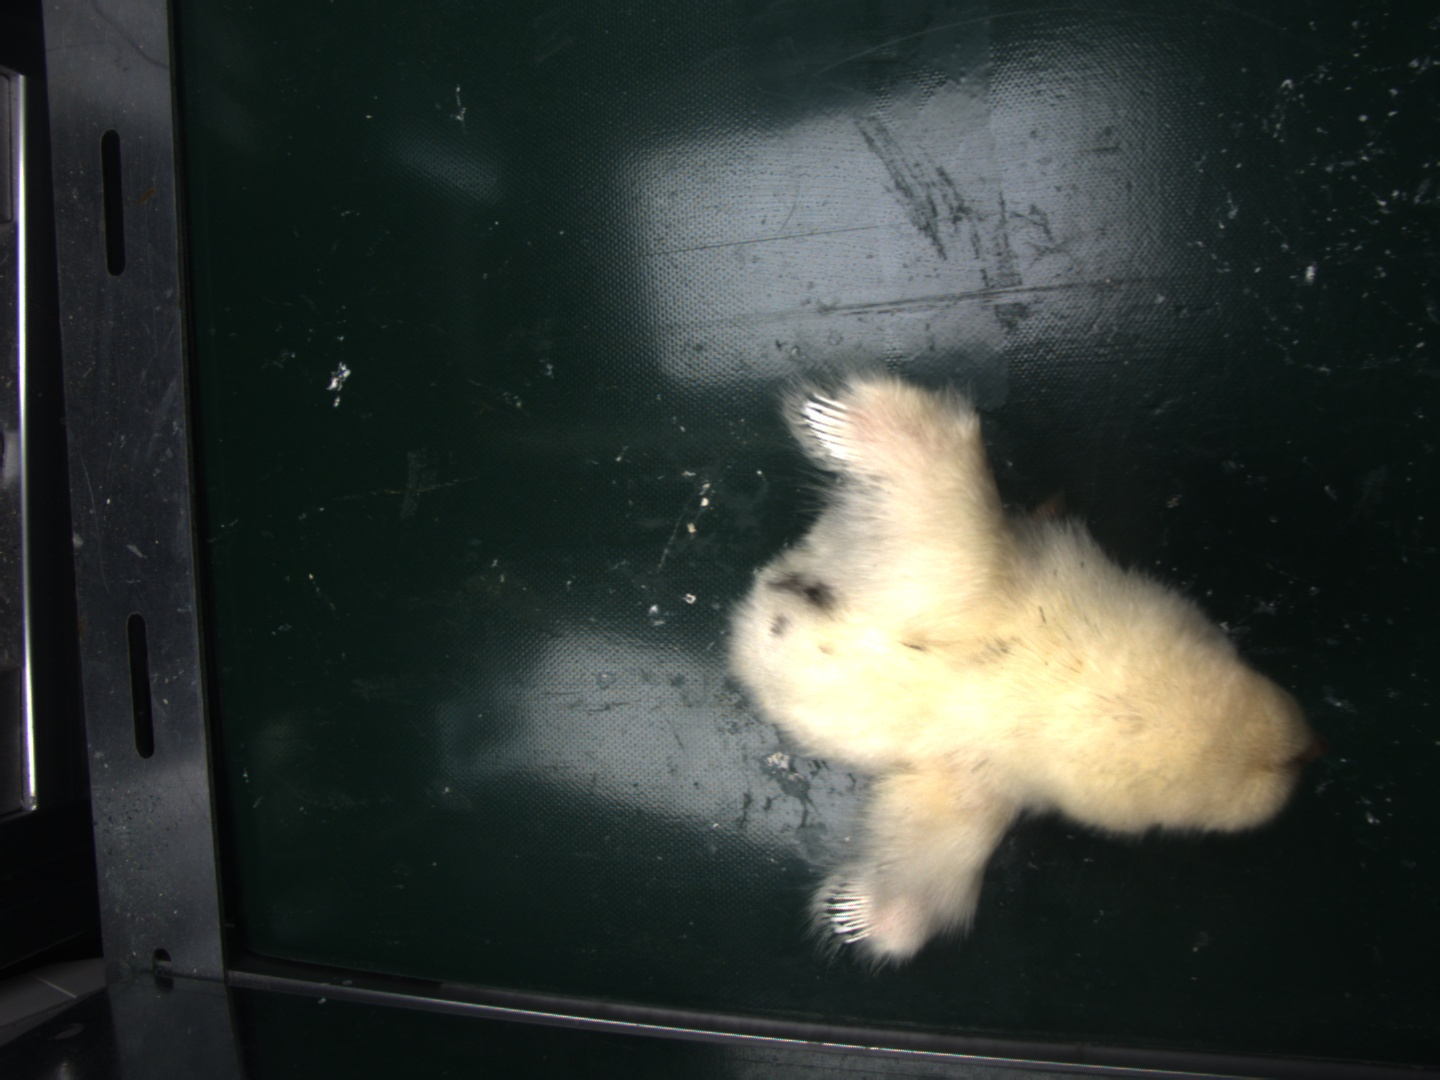male: (828, 880, 872, 946)
